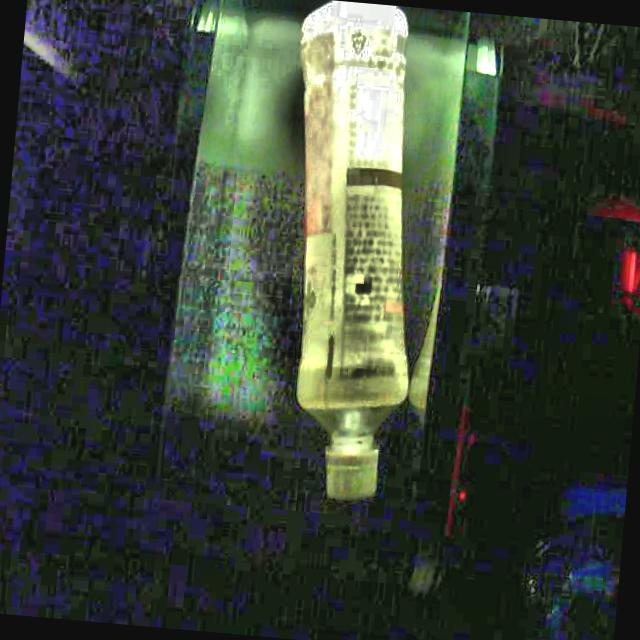plastic bottle: (297, 0, 409, 502)
